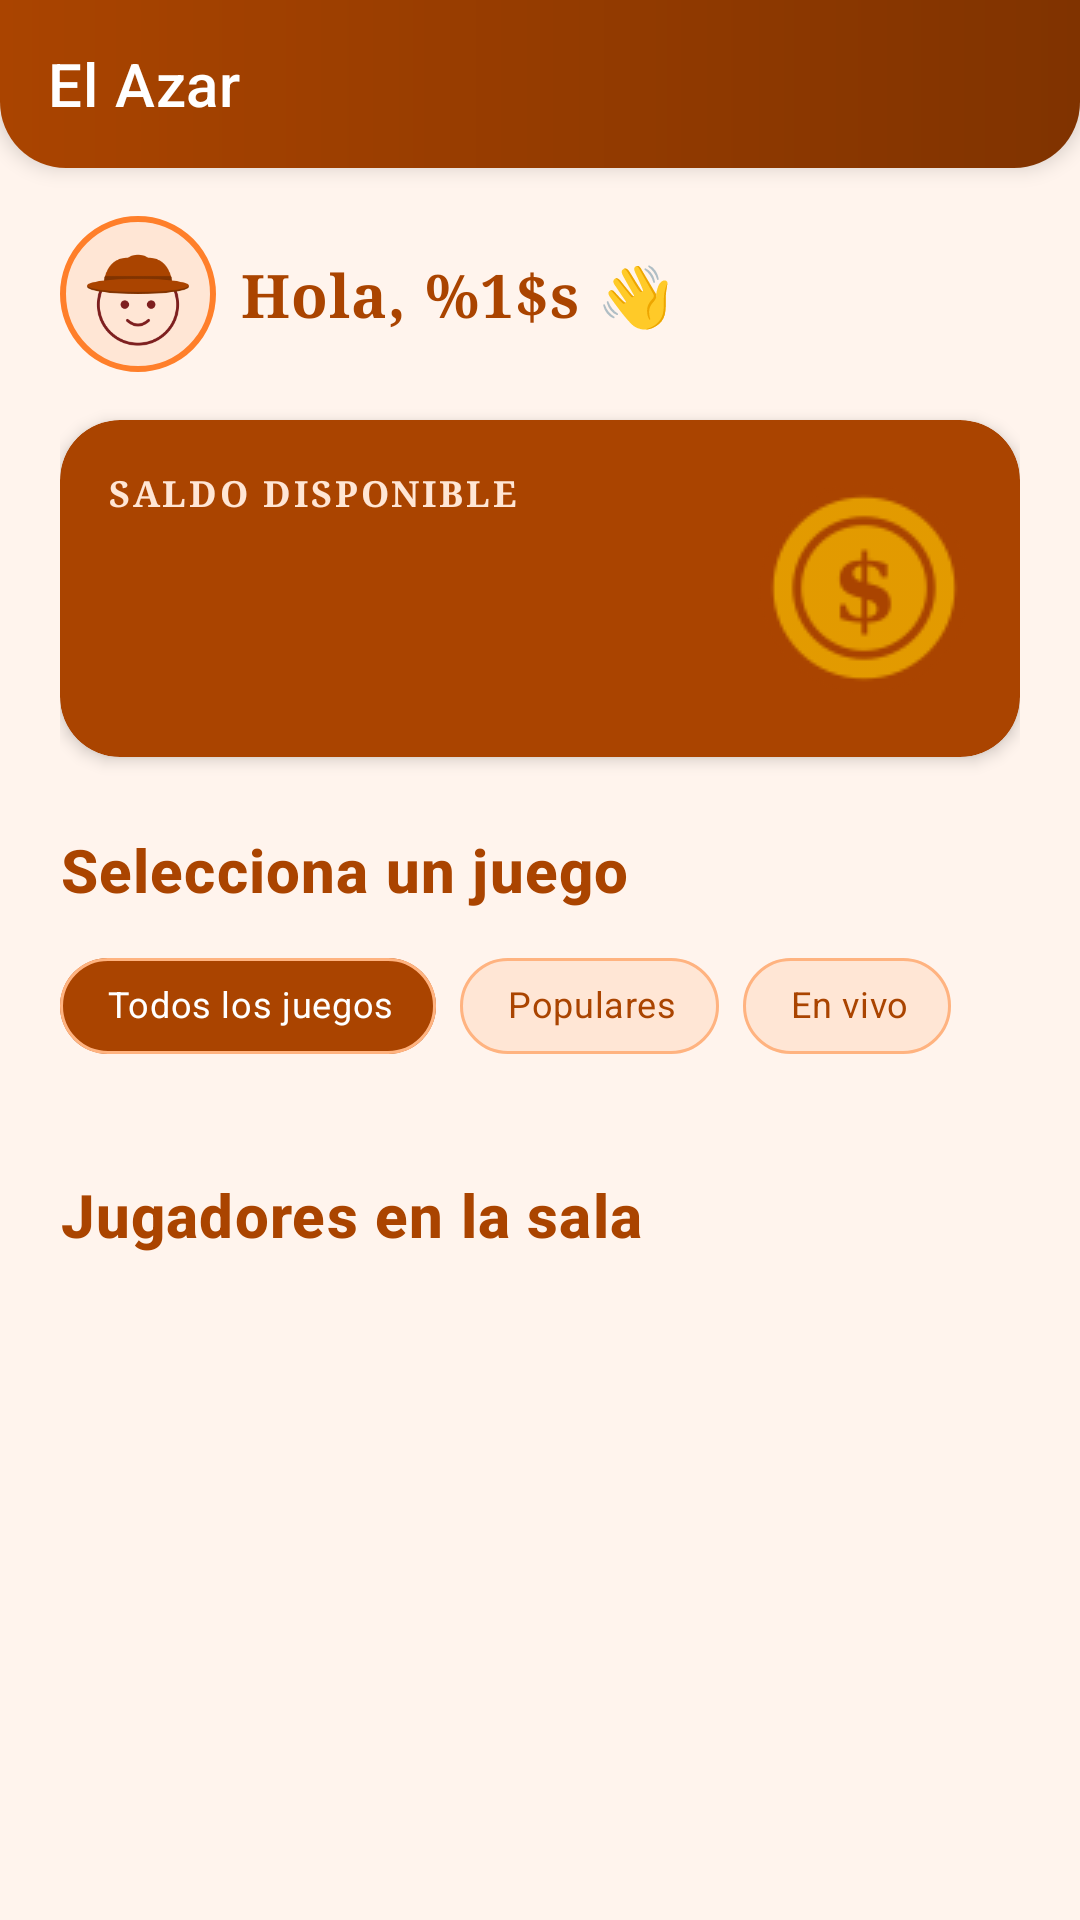

Point at icon controls on the screen. Image size 1080w x 1920h, points as (x=x, y=y).
Saldo disponible: (x=864, y=588)
